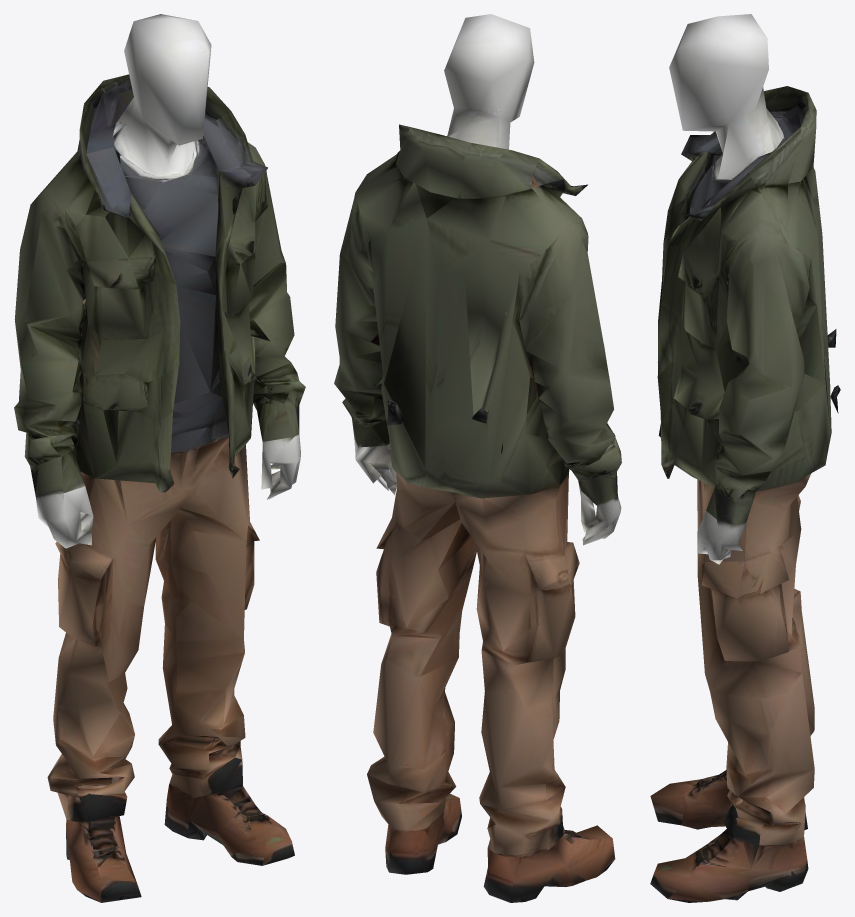
File: mannequin_m.glb
The picture shows the model from 3 angles, left to right: view 1: azimuth 30°, elevation 25°; view 2: azimuth 150°, elevation 25°; view 3: azimuth 270°, elevation 25°; orthographic projection.
Parts seen in each view (by area): view 1: Mesh_0_w; view 2: Mesh_0_w; view 3: Mesh_0_w.
Boxes of the visible parts, x1,y1,x2,y2 form: Mesh_0_w: (14,14,305,902); Mesh_0_w: (334,14,621,902); Mesh_0_w: (650,14,840,902).
Size of the model in its own units: 0.6276 by 1.86 by 0.3805.
Materials: 1 (1 with a texture image).
